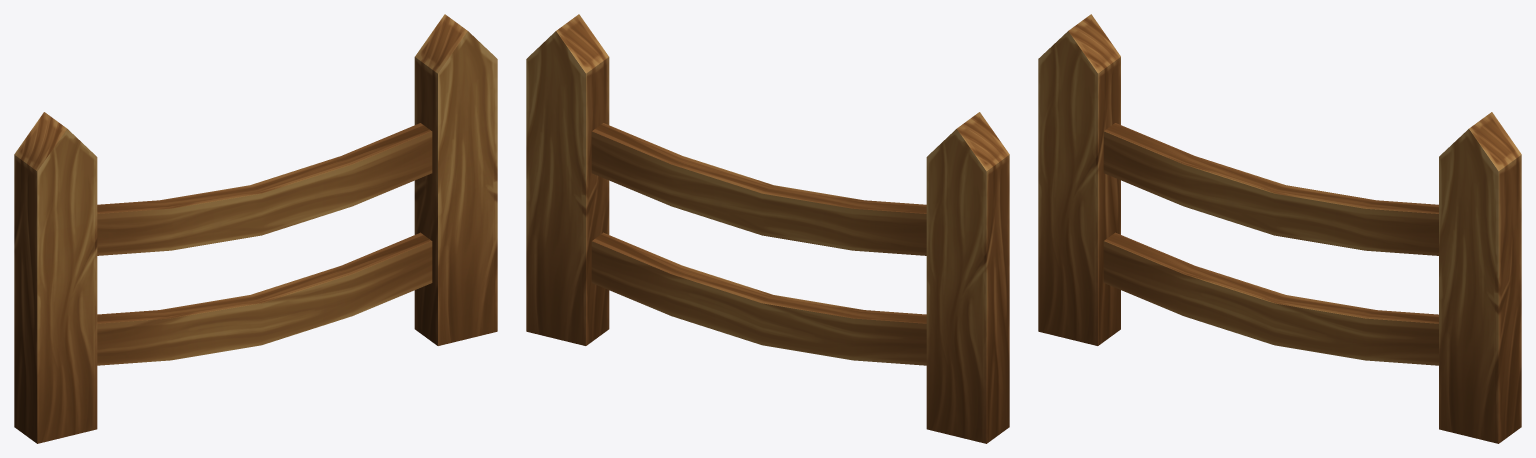
Rendered from Fence.FBX.
3 renders of one model, left to right at view 1: azimuth 30°, elevation 25°; view 2: azimuth 150°, elevation 25°; view 3: azimuth 330°, elevation 25°, orthographic.
Visible parts, largest first — view 1: Fence; view 2: Fence; view 3: Fence.
Part boxes in pixels (x1=…): Fence: x1=14, y1=14, x2=497, y2=443; Fence: x1=526, y1=14, x2=1009, y2=443; Fence: x1=1038, y1=14, x2=1521, y2=443.
Size of what is drawn, in the model's own units: 230 by 20 by 147.
